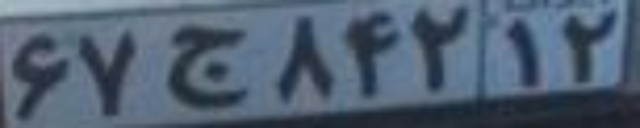1: (506, 20, 537, 86)
2: (409, 6, 473, 91), (560, 12, 613, 84)
4: (342, 13, 400, 97)
6: (6, 34, 69, 119)
7: (74, 28, 140, 116)
8: (277, 15, 335, 103)
jim: (166, 26, 251, 108)
